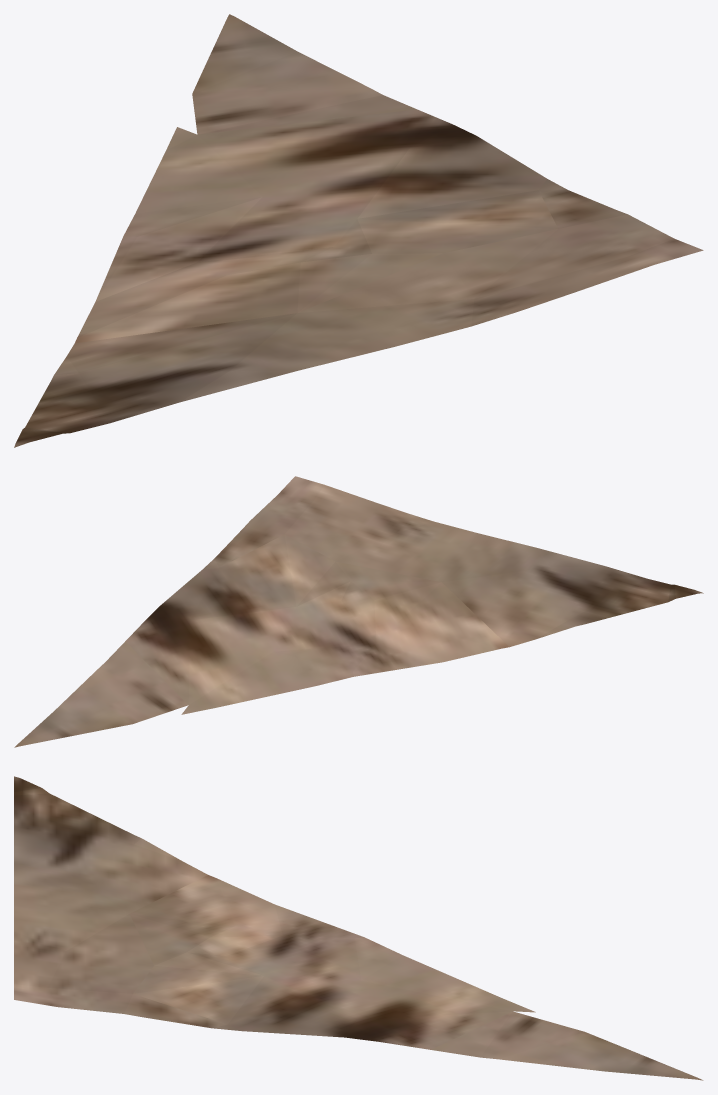
The picture shows the model from 3 angles, top to bottom: view 1: azimuth 30°, elevation 25°; view 2: azimuth 150°, elevation 25°; view 3: azimuth 270°, elevation 25°; orthographic projection. The views are drawn at different scales.
Size of the model in its own units: 3.17 by 0.4887 by 3.78.
1 material, 1 textured.
